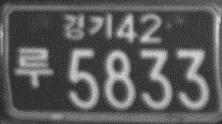2: (139, 12, 162, 44)
3: (175, 47, 211, 112), (139, 48, 171, 111)
4: (115, 14, 136, 43)
5: (67, 46, 100, 110)
8: (103, 48, 136, 111)
경기_O: (62, 13, 113, 40)
루: (14, 46, 53, 90)
